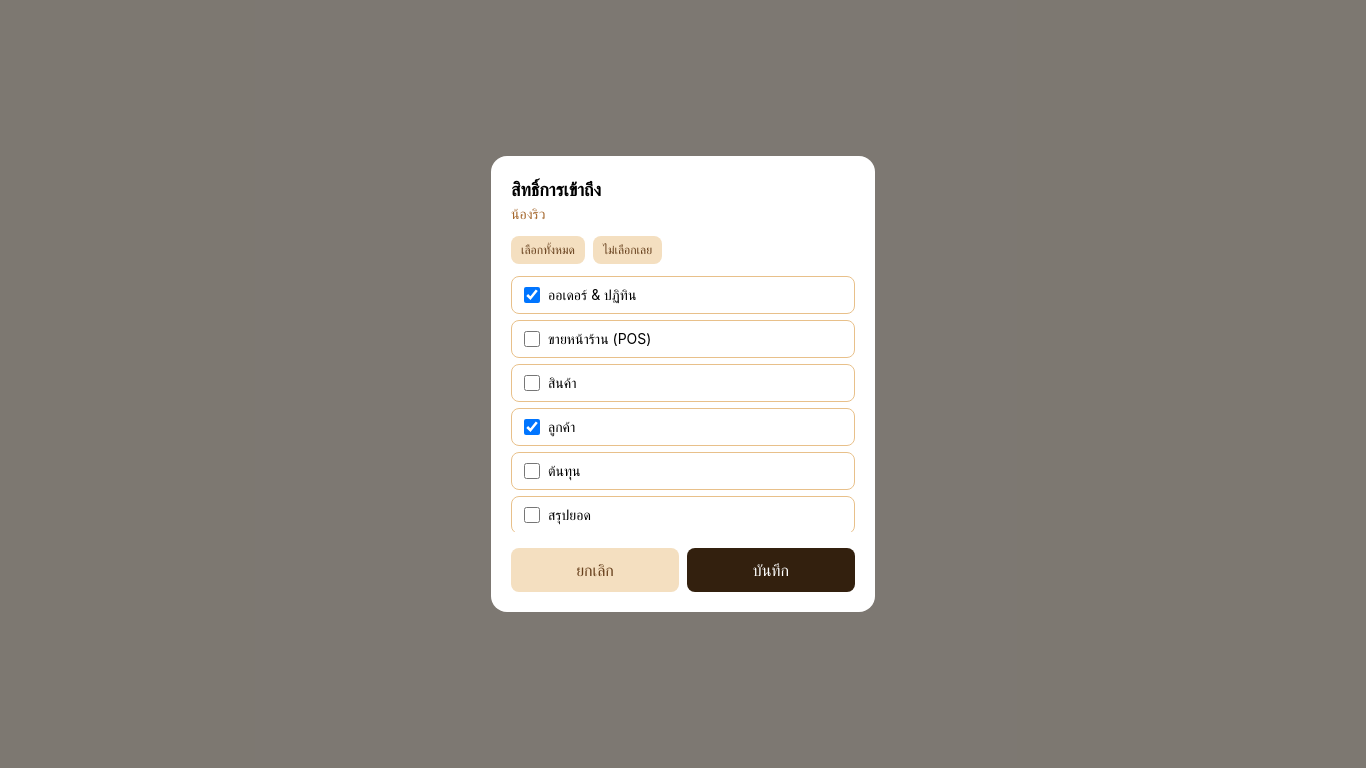
StaffPermissionsModal › บันทึกไม่สำเร็จ แสดง error ไม่ปิดโมดัล
This screenshot has width=1366, height=768.
Click the button "บันทึก" at (771, 570), box [687,548,855,592]
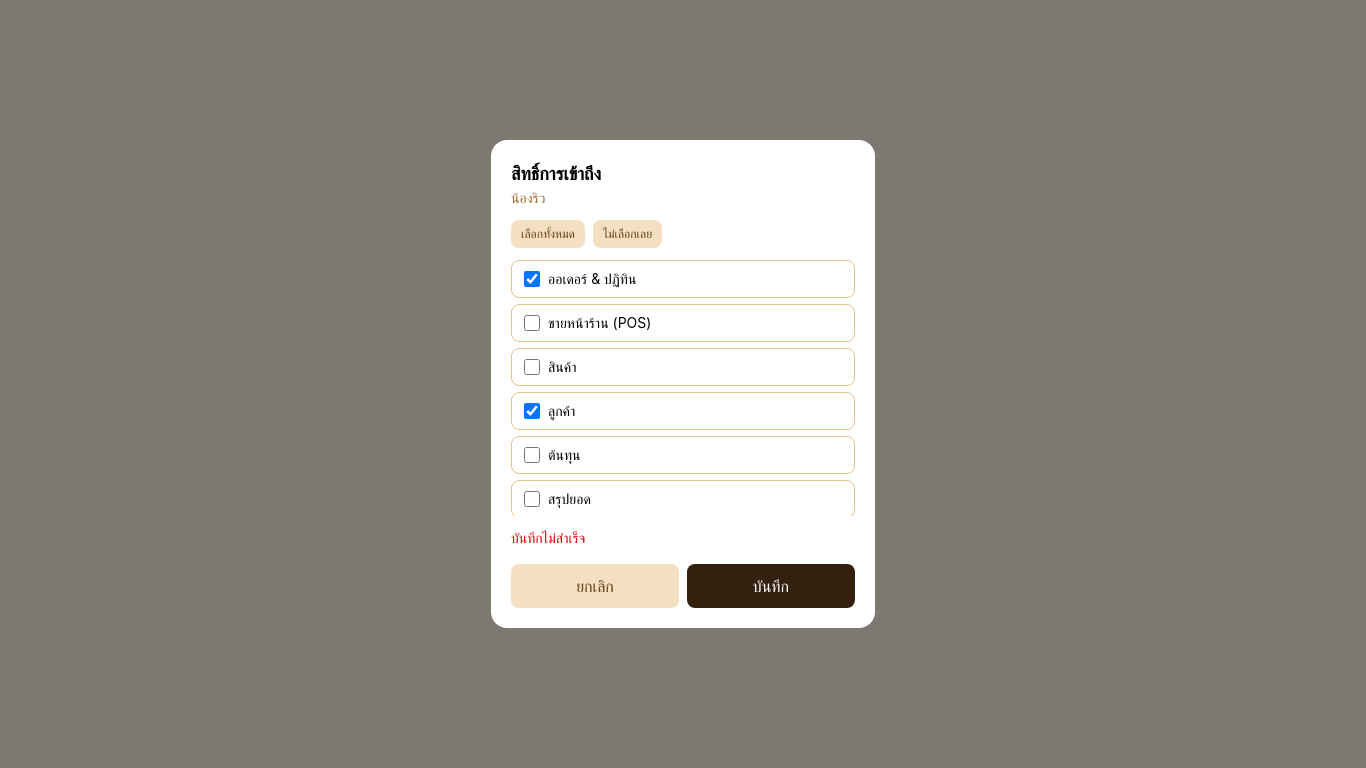
Result: the text "บันทึกไม่สำเร็จ" is shown at [511,529,586,546]
